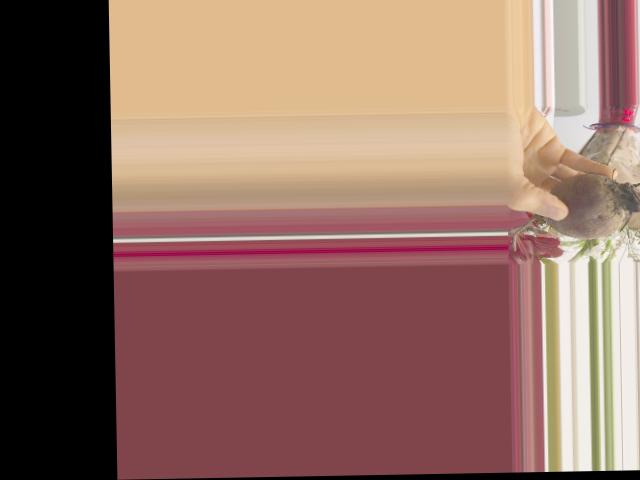beet: (512, 152, 640, 250)
